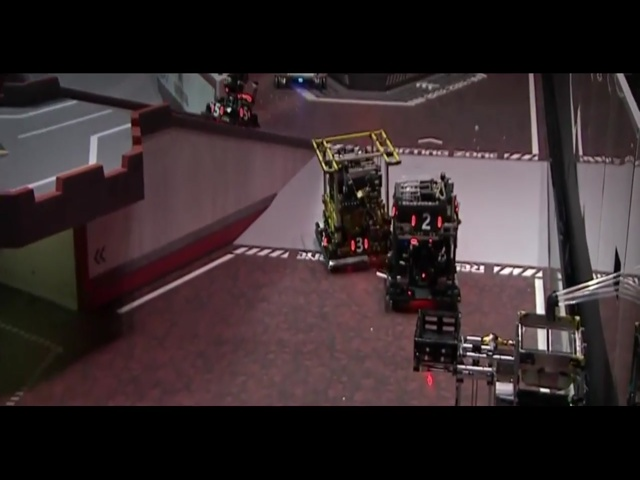plate: (74, 326, 116, 357), (219, 163, 243, 185), (369, 317, 390, 340), (142, 313, 156, 344), (262, 159, 277, 179), (314, 313, 325, 338), (119, 194, 133, 213), (278, 135, 293, 152), (302, 133, 311, 149)
